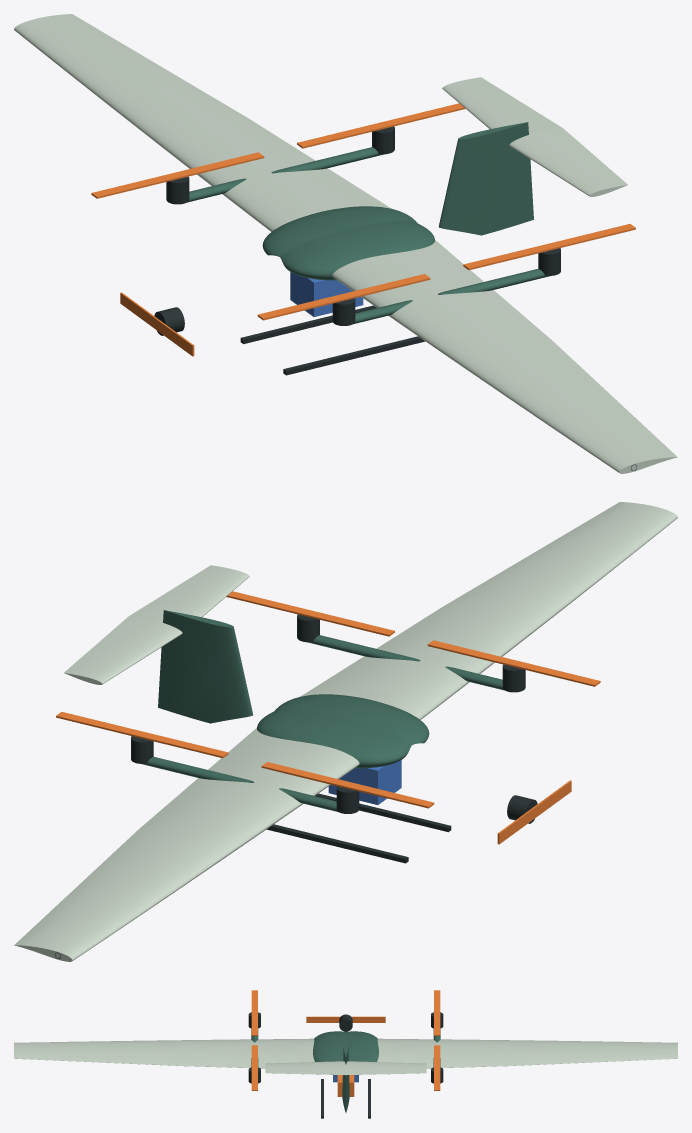
The model's file is surface_tools-10-internal.glb.
The picture shows the model from 3 angles, top to bottom: view 1: azimuth 30°, elevation 25°; view 2: azimuth 150°, elevation 25°; view 3: azimuth 270°, elevation 25°; orthographic projection. The views are drawn at different scales.
Visible parts, largest first — view 1: wing-1, wing1, fin, root_fairing-1, tail-1, root_fairing1, tail1, payload, boom_fairing-1, boom_fairing1, prop_1_200.0, prop_-1_200.0 (+5 smaller); view 2: wing1, wing-1, fin, root_fairing1, tail1, root_fairing-1, tail-1, payload, boom_fairing1, boom_fairing-1, prop_-1_200.0, prop_1_200.0 (+5 smaller); view 3: wing-1, wing1, tail-1, tail1, root_fairing-1, root_fairing1, cruise_prop, fin, prop_-1_200.0, prop_-1_700.0, prop_1_200.0, prop_1_700.0 (+1 smaller).
Boxes of the visible parts, box(x1,y1,x2,y2) form: wing-1: box(332, 240, 677, 473); wing1: box(14, 14, 391, 231); fin: box(438, 122, 533, 235); root_fairing-1: box(280, 220, 434, 280); tail-1: box(509, 128, 627, 196); root_fairing1: box(262, 206, 416, 256); tail1: box(442, 77, 562, 134); payload: box(290, 272, 363, 316); boom_fairing-1: box(354, 268, 549, 323); boom_fairing1: box(187, 147, 383, 202); prop_1_200.0: box(91, 152, 264, 198); prop_-1_200.0: box(257, 274, 430, 320); wing1: box(14, 728, 359, 961); wing-1: box(300, 502, 677, 719); fin: box(158, 610, 253, 723); root_fairing1: box(257, 708, 411, 768); tail1: box(64, 616, 182, 684); root_fairing-1: box(275, 694, 429, 744); tail-1: box(129, 565, 249, 622); payload: box(328, 760, 401, 804); boom_fairing1: box(142, 756, 337, 811); boom_fairing-1: box(308, 635, 504, 690); prop_-1_200.0: box(427, 640, 600, 686); prop_1_200.0: box(261, 762, 434, 808); wing-1: box(14, 1038, 314, 1068); wing1: box(377, 1038, 677, 1068); tail-1: box(265, 1061, 345, 1075); tail1: box(346, 1061, 426, 1075); root_fairing-1: box(313, 1031, 345, 1061); root_fairing1: box(346, 1031, 378, 1061); cruise_prop: box(306, 1016, 385, 1022); fin: box(342, 1039, 349, 1112); prop_-1_200.0: box(251, 990, 257, 1035); prop_-1_700.0: box(251, 1045, 257, 1090); prop_1_200.0: box(434, 990, 440, 1035); prop_1_700.0: box(434, 1045, 440, 1090).
Bounding box in the file's own units: 989 × 400 × 2550.
